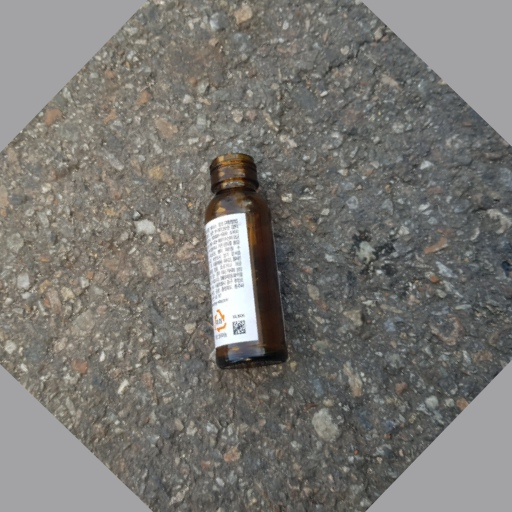Glass_3: (194, 147, 291, 372)
